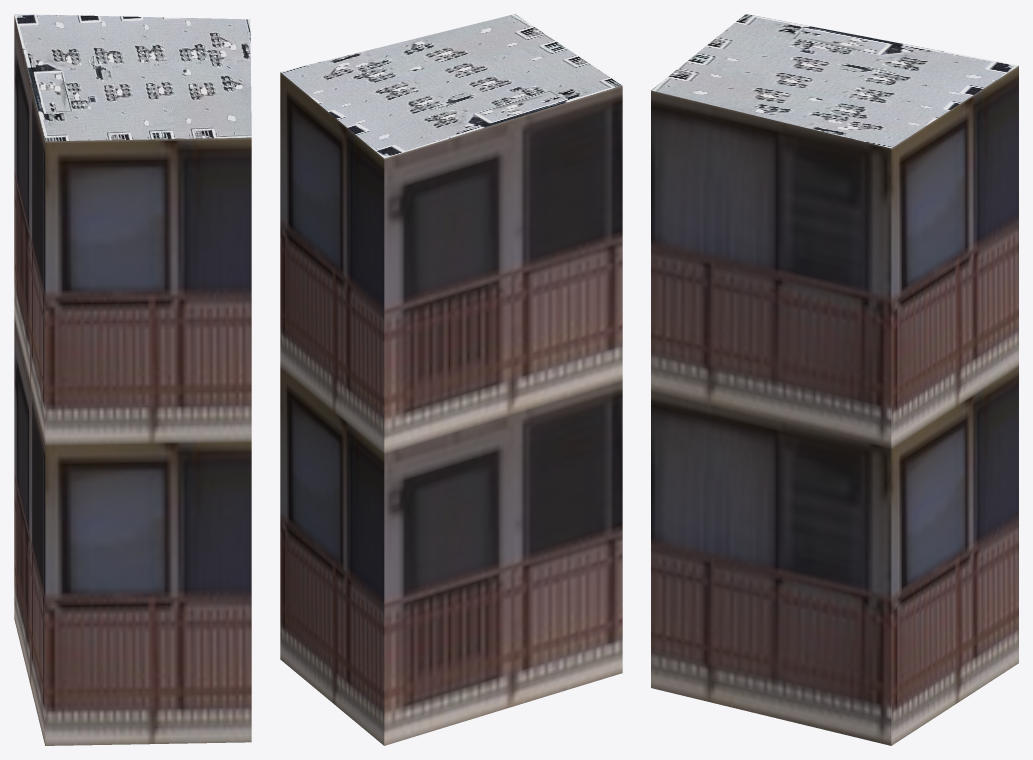
The model's file is ResTex__4573.fbx.
3 renders of one model, left to right at view 1: azimuth 30°, elevation 25°; view 2: azimuth 150°, elevation 25°; view 3: azimuth 270°, elevation 25°, orthographic. The views are drawn at different scales.
Parts seen in each view (by area): view 1: CityEngineMaterial_6_m, CityEngineMaterial_4_m; view 2: CityEngineMaterial_6_m, CityEngineMaterial_4_m; view 3: CityEngineMaterial_6_m, CityEngineMaterial_4_m.
Boxes of the visible parts, x1,y1,x2,y2 form: CityEngineMaterial_6_m: (14, 15, 251, 745); CityEngineMaterial_4_m: (14, 14, 251, 141); CityEngineMaterial_6_m: (280, 72, 622, 745); CityEngineMaterial_4_m: (280, 14, 622, 158); CityEngineMaterial_6_m: (651, 66, 1018, 745); CityEngineMaterial_4_m: (651, 14, 1018, 148).
Size of the model in its own units: 2.9 by 6 by 3.35.
2 materials, 2 textured.
